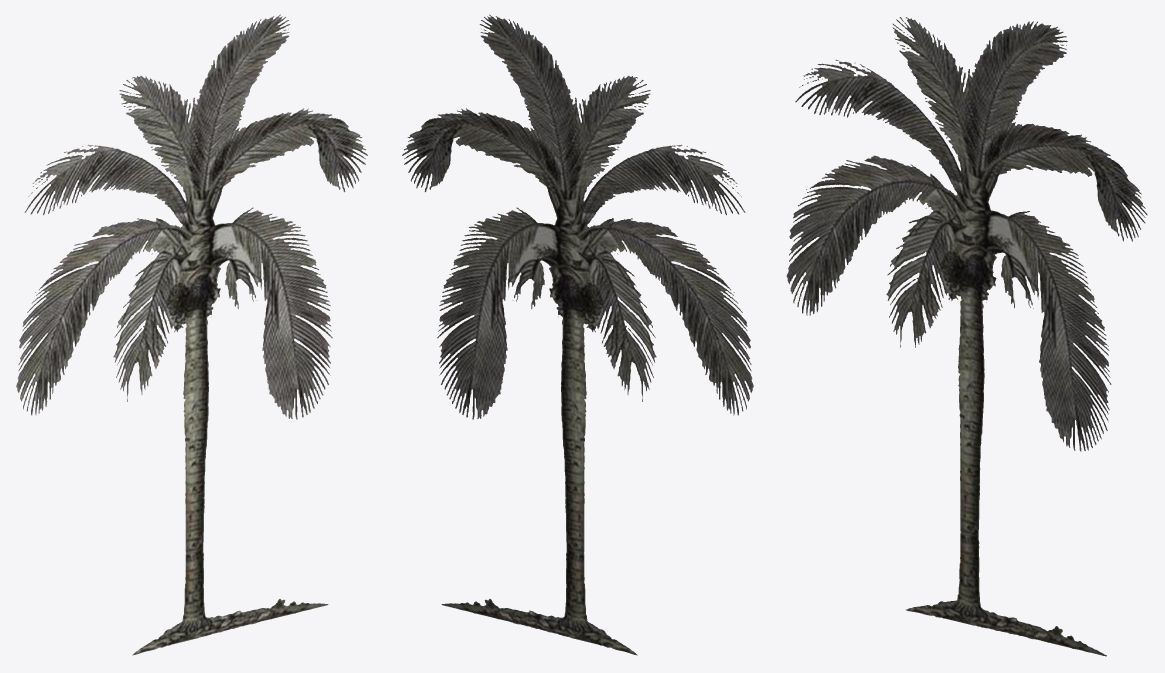
File: palmera_sola_FBX.fbx
3 views of the same model, side by side, from view 1: azimuth 30°, elevation 25°; view 2: azimuth 150°, elevation 25°; view 3: azimuth 330°, elevation 25° (orthographic). The views are drawn at different scales.
Parts seen in each view (by area): view 1: Palmera; view 2: Palmera; view 3: Palmera.
Boxes of the visible parts, bbox=[...] form: Palmera: bbox=[16, 14, 367, 655]; Palmera: bbox=[402, 14, 753, 655]; Palmera: bbox=[786, 17, 1147, 656].
Size of the model in its own units: 7.86 by 12.82 by 0.
1 material, 1 textured.
